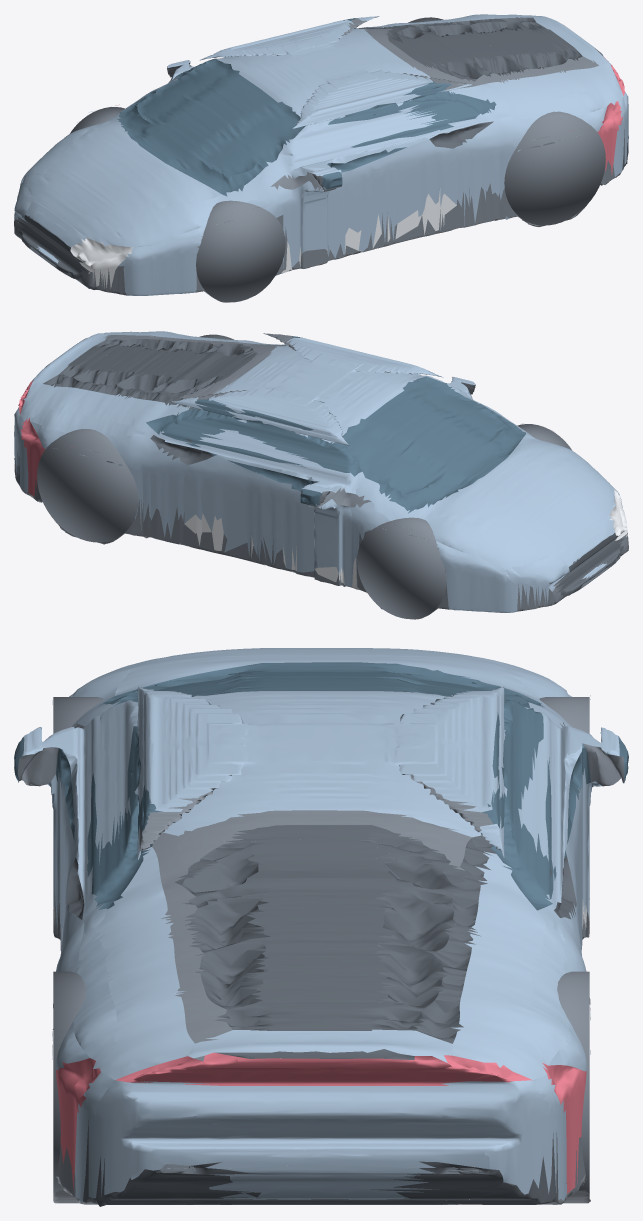
The model's file is aether-model.glb.
3 renders of one model, top to bottom at view 1: azimuth 30°, elevation 25°; view 2: azimuth 150°, elevation 25°; view 3: azimuth 270°, elevation 25°, orthographic. The views are drawn at different scales.
Parts seen in each view (by area): view 1: roof, windscreen, front door right, bonnet, tyre rear right, tyre front right, rear fender right, front bumper right, front fender 5, rear fender, engine cover, side skirt right (+39 smaller); view 2: roof, front door left, windscreen, bonnet, tyre rear left, tyre front left, rear fender left, front fender 4, engine cover 2, front bumper left, front fender, windscreen trim (+40 smaller); view 3: roof, rear bumper 4, engine cover 2, engine cover, engine cover vent, bonnet, tail light, rear bumper, engine cover vent 2, number plate, rear fender, engine cover trim (+53 smaller).
Part boxes in pixels (box(x1,y1,x2,y2)): roof: box(189, 19, 432, 172); windscreen: box(136, 60, 305, 178); front door right: box(126, 139, 508, 295); bonnet: box(41, 115, 220, 229); tyre rear right: box(504, 111, 605, 225); tyre front right: box(196, 200, 285, 302); rear fender right: box(440, 106, 607, 225); front bumper right: box(118, 225, 205, 295); front fender 5: box(116, 159, 285, 247); rear fender: box(277, 91, 447, 178); engine cover: box(449, 65, 623, 110); side skirt right: box(292, 183, 512, 268); roof: box(208, 337, 454, 485); front door left: box(153, 455, 516, 612); windscreen: box(338, 376, 508, 496); bonnet: box(418, 434, 600, 546); tyre rear left: box(37, 429, 138, 542); tyre front left: box(357, 517, 446, 619); rear fender left: box(30, 421, 202, 538); front fender 4: box(356, 478, 526, 567); engine cover 2: box(20, 382, 189, 425); front bumper left: box(436, 541, 516, 612); front fender: box(192, 408, 365, 493); windscreen trim: box(378, 406, 525, 513); roof: box(22, 691, 610, 837); rear bumper 4: box(52, 848, 556, 1198); engine cover 2: box(446, 851, 547, 1147); engine cover: box(93, 847, 194, 1079); engine cover vent: box(245, 937, 395, 1002); bonnet: box(115, 648, 534, 698); tail light: box(177, 1052, 467, 1085); rear bumper: box(178, 1029, 462, 1148); engine cover vent 2: box(247, 885, 396, 941); number plate: box(209, 1164, 439, 1199); rear fender: box(23, 715, 146, 873); engine cover trim: box(172, 810, 471, 870).
Bounding box in the file's own units: 0.2395 × 0.0638 × 0.1202.
